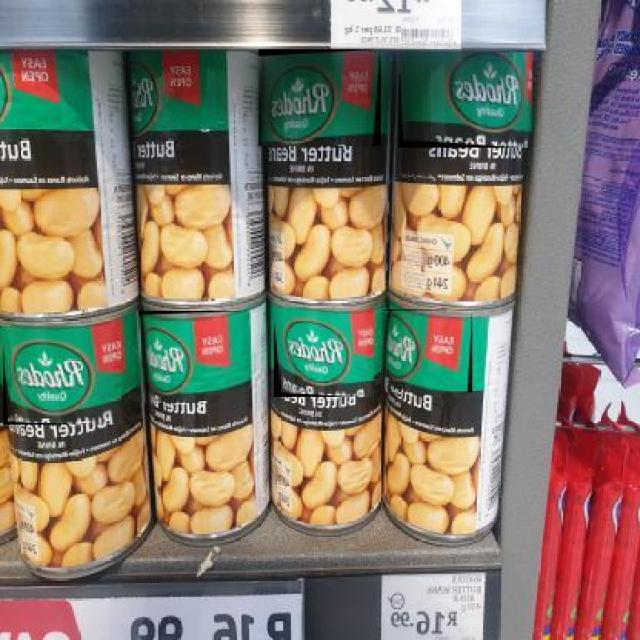Beans: (397, 52, 532, 150), (257, 49, 380, 148), (2, 326, 122, 426), (137, 310, 251, 404), (272, 307, 374, 398), (382, 309, 472, 394)
